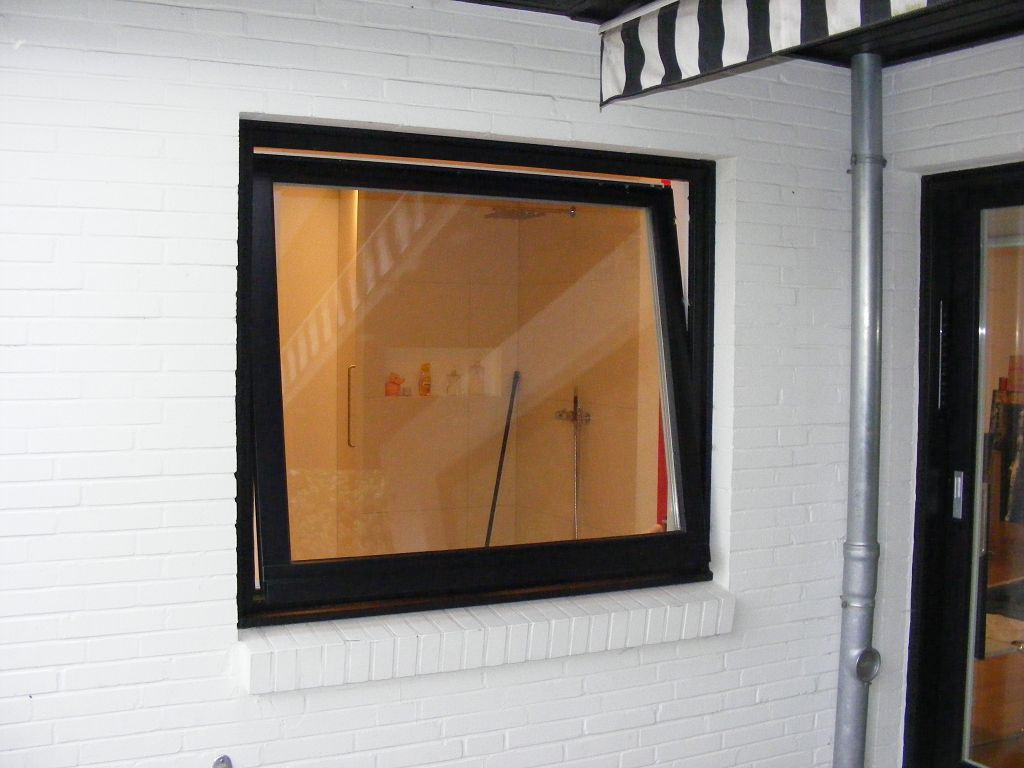windows: (237, 112, 731, 610)
